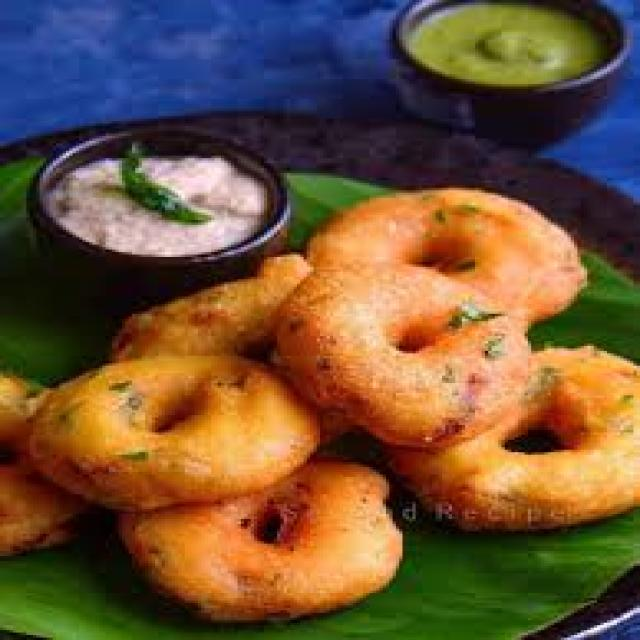MEDU VADA: (23, 356, 317, 509), (280, 259, 525, 442), (393, 346, 637, 526), (122, 460, 399, 618)
